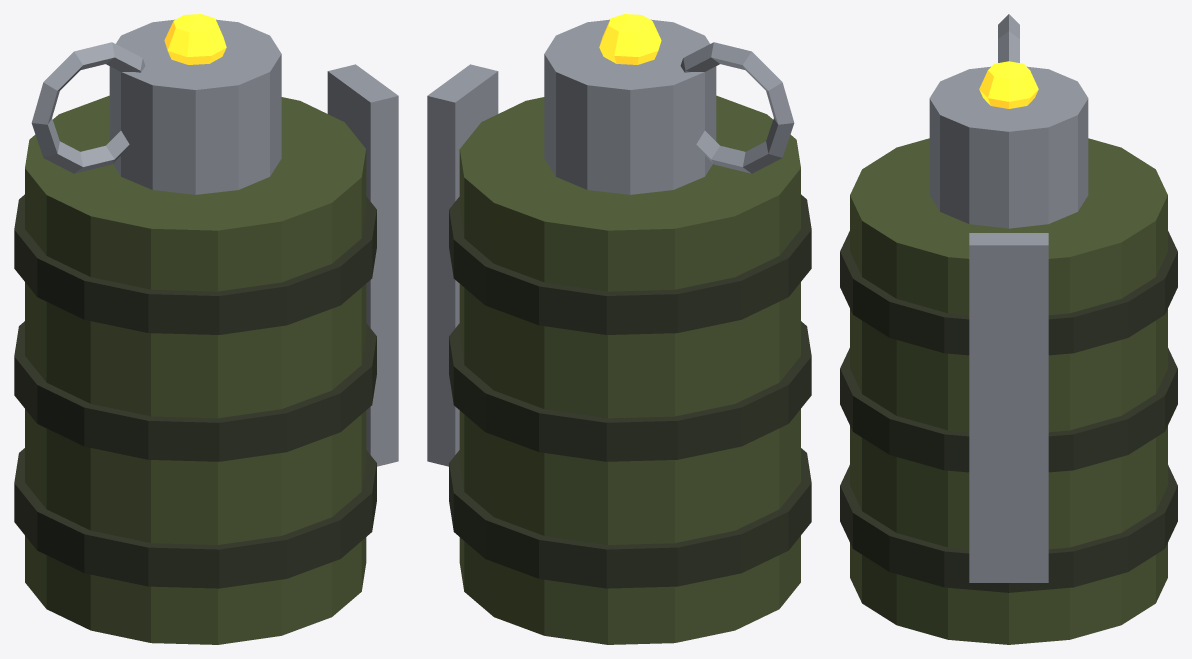
File: throw.frag.glb
3 views of the same model, side by side, from view 1: azimuth 30°, elevation 25°; view 2: azimuth 150°, elevation 25°; view 3: azimuth 270°, elevation 25° (orthographic). The views are drawn at different scales.
Parts seen in each view (by area): view 1: throw.frag; view 2: throw.frag; view 3: throw.frag.
Boxes of the visible parts, x1,y1,x2,y2 form: throw.frag: (14, 14, 398, 644); throw.frag: (427, 14, 811, 644); throw.frag: (840, 14, 1177, 644).
Bounding box in the file's own units: 0.0742 × 0.1145 × 0.068.
